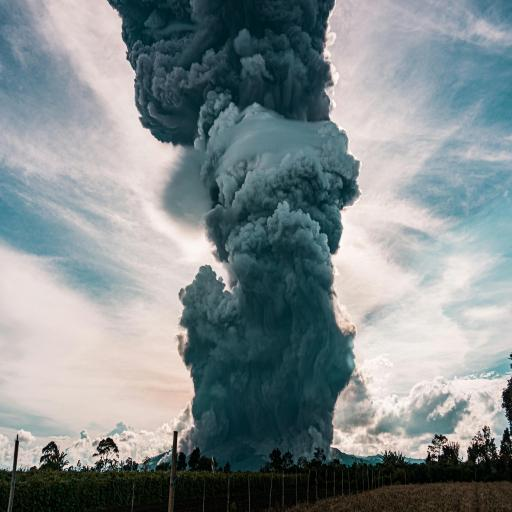smoke: (108, 0, 369, 470)
